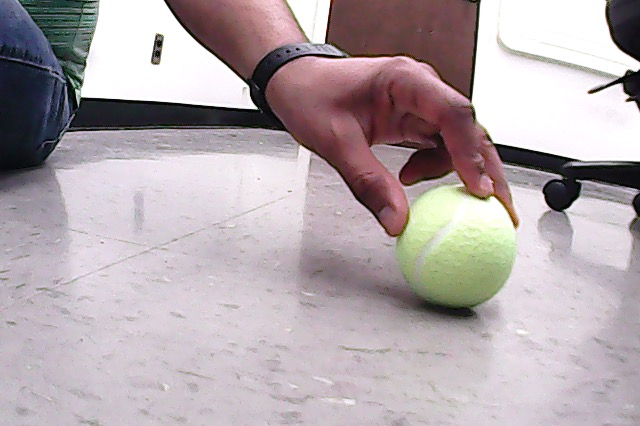ball: (394, 181, 520, 311)
